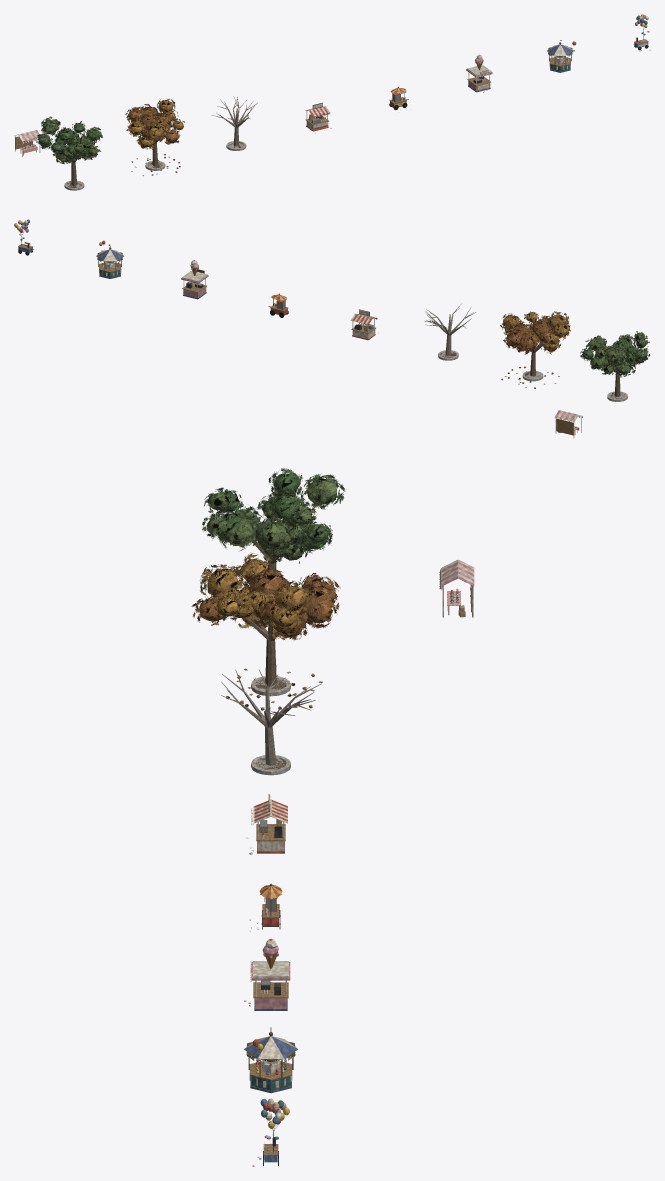
File: LotteWorld_DecoProps.fbx
The picture shows the model from 3 angles, top to bottom: view 1: azimuth 30°, elevation 25°; view 2: azimuth 150°, elevation 25°; view 3: azimuth 270°, elevation 25°; orthographic projection. The views are drawn at different scales.
Parts seen in each view (by area): view 1: Deco_Tree_Autumn__LW_Prop_DT_Aut1.001, Deco_Tree_Leafy__LW_Prop_DT_Leaf2.001, Deco_Tree_Leafy__LW_Prop_DT_Leaf1.001, Deco_Tree_Autumn__LW_Prop_DT_Aut2.001, Deco_Tree_Dead__LW_Prop_DT_DeadBark.001; view 2: Deco_Tree_Autumn__LW_Prop_DT_Aut1.001, Deco_Tree_Leafy__LW_Prop_DT_Leaf1.001, Deco_Tree_Leafy__LW_Prop_DT_Leaf2.001, Deco_Tree_Autumn__LW_Prop_DT_Aut2.001, Deco_Tree_Dead__LW_Prop_DT_DeadBark.001; view 3: Deco_Tree_Autumn__LW_Prop_DT_Aut1.001, Deco_Tree_Leafy__LW_Prop_DT_Leaf2.001, Deco_Tree_Leafy__LW_Prop_DT_Leaf1.001, Deco_Tree_Autumn__LW_Prop_DT_Aut2.001, Deco_Tree_Dead__LW_Prop_DT_DeadBark.001.
Boxes of the visible parts, box(x1,y1,x2,y2) form: Deco_Tree_Autumn__LW_Prop_DT_Aut1.001: box(126, 98, 184, 172); Deco_Tree_Leafy__LW_Prop_DT_Leaf2.001: box(39, 116, 102, 164); Deco_Tree_Leafy__LW_Prop_DT_Leaf1.001: box(36, 121, 100, 163); Deco_Tree_Autumn__LW_Prop_DT_Aut2.001: box(125, 104, 180, 175); Deco_Tree_Dead__LW_Prop_DT_DeadBark.001: box(211, 96, 257, 146); Deco_Tree_Autumn__LW_Prop_DT_Aut1.001: box(500, 311, 570, 382); Deco_Tree_Leafy__LW_Prop_DT_Leaf1.001: box(580, 336, 649, 375); Deco_Tree_Leafy__LW_Prop_DT_Leaf2.001: box(585, 331, 647, 377); Deco_Tree_Autumn__LW_Prop_DT_Aut2.001: box(501, 315, 553, 388); Deco_Tree_Dead__LW_Prop_DT_DeadBark.001: box(424, 303, 475, 355); Deco_Tree_Autumn__LW_Prop_DT_Aut1.001: box(199, 553, 311, 709); Deco_Tree_Leafy__LW_Prop_DT_Leaf2.001: box(202, 474, 345, 563); Deco_Tree_Leafy__LW_Prop_DT_Leaf1.001: box(210, 468, 332, 553); Deco_Tree_Autumn__LW_Prop_DT_Aut2.001: box(191, 568, 340, 710); Deco_Tree_Dead__LW_Prop_DT_DeadBark.001: box(221, 669, 321, 765).
Bounding box in the file's own units: 105 × 10.4 × 21.25.
